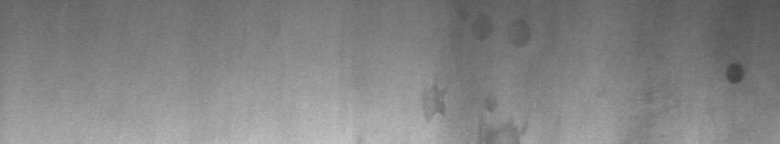fi: (724, 53, 748, 88)
